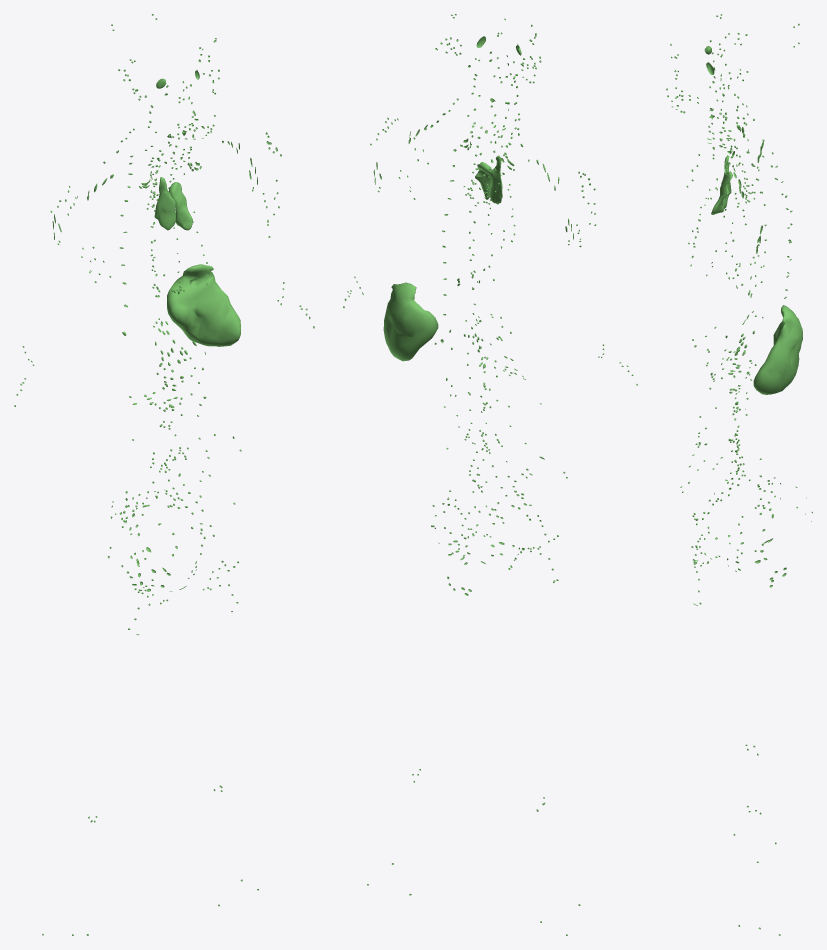
The model's file is lymphatic.glb.
3 renders of one model, left to right at view 1: azimuth 30°, elevation 25°; view 2: azimuth 150°, elevation 25°; view 3: azimuth 270°, elevation 25°, orthographic. The views are drawn at different scales.
Visible parts, largest first — view 1: VF_spleen, W_FJ3151, W_FJ3150; view 2: VF_spleen; view 3: VF_spleen, W_FJ3150.
Boxes of the visible parts, bbox=[...] form: VF_spleen: bbox=[167, 264, 240, 346]; W_FJ3151: bbox=[154, 177, 175, 230]; W_FJ3150: bbox=[169, 182, 192, 230]; VF_spleen: bbox=[383, 282, 438, 361]; VF_spleen: bbox=[753, 305, 802, 394]; W_FJ3150: bbox=[711, 172, 732, 214].
Bounding box in the file's own units: 0.4394 × 1.24 × 0.1913.
